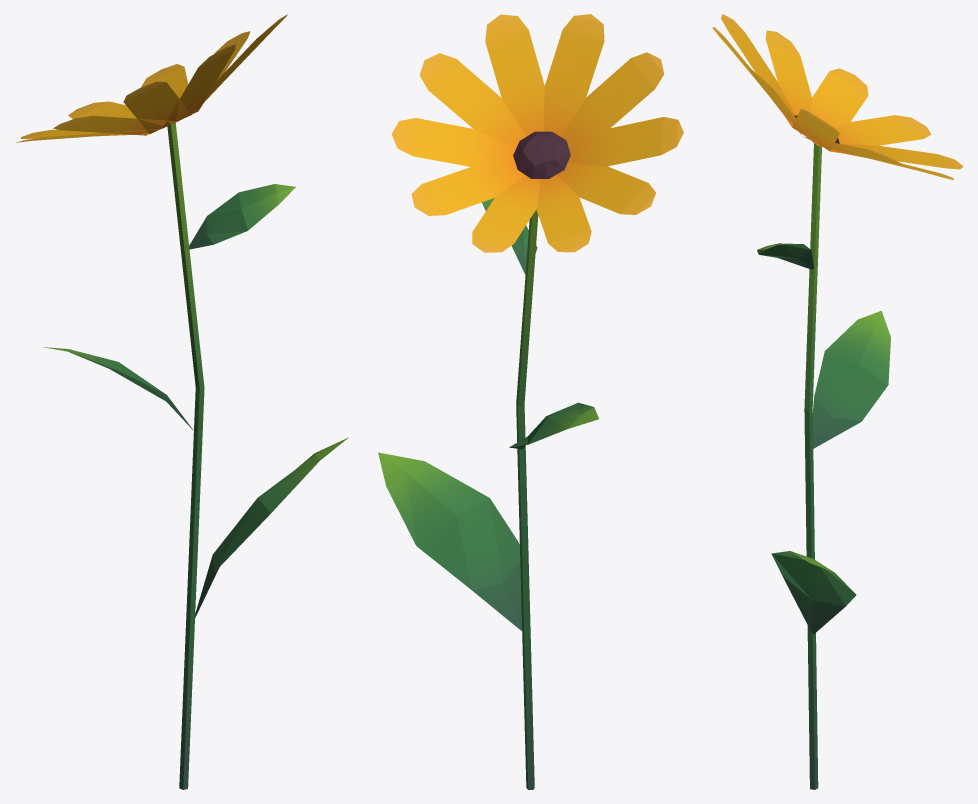
Rendered from amarilla-1.glb.
3 renders of one model, left to right at view 1: azimuth 30°, elevation 25°; view 2: azimuth 150°, elevation 25°; view 3: azimuth 270°, elevation 25°, orthographic. The views are drawn at different scales.
Parts seen in each view (by area): view 1: Flower.011; view 2: Flower.011; view 3: Flower.011.
Part boxes in pixels (<box>): Flower.011: <box>16,14,348,789</box>; Flower.011: <box>378,14,683,789</box>; Flower.011: <box>712,14,963,789</box>.
Size of the model in its own units: 0.8989 by 2.15 by 0.6505.
Materials: 1 (1 with a texture image).
